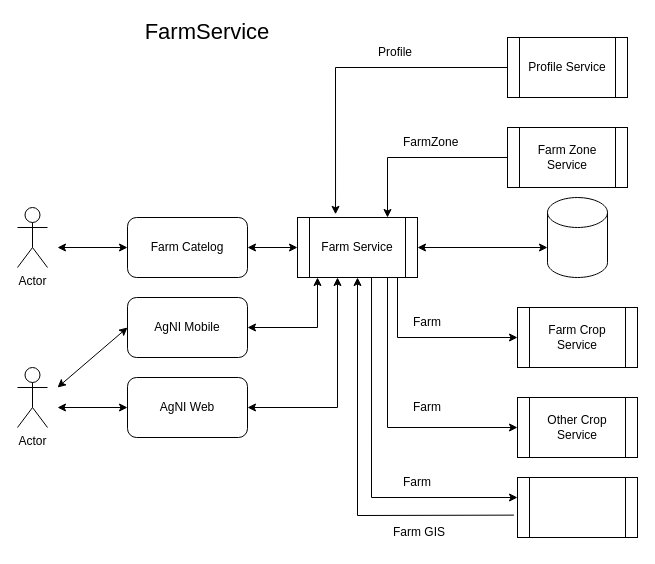
Some shapes in this 655 by 564 pixel diagram are drawn without their labels. Here are the shapes that lost their labels. From the top down, the centre of each, then its label:
At [577,237]: "Farm DB".
At [577,507]: "Location Service".
